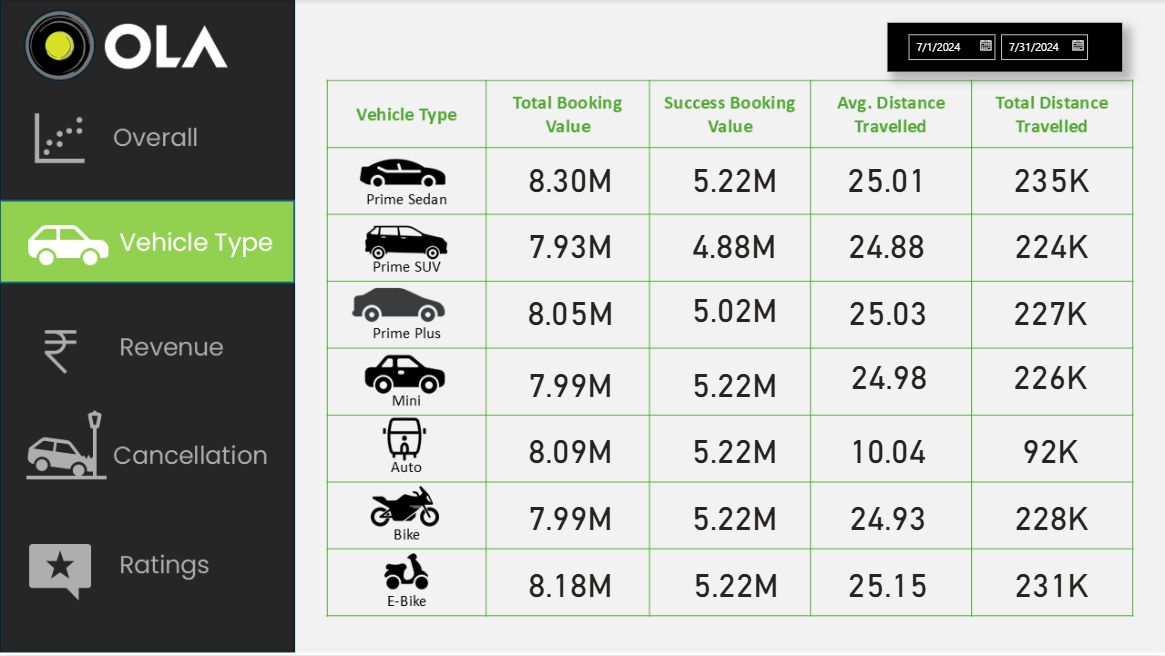

This screenshot's page, from the dashboard's own definition file:
{"tool":"powerbi","page":{"name":"Vehicle Type","canvas":[1280,720],"ordinal":1},"visuals":[{"type":"actionButton","box":[0,223.2,324.5,90.5],"z":0},{"type":"actionButton","box":[1.2,339,324.5,90.5],"z":1000},{"type":"actionButton","box":[0,448.8,324.5,90.5],"z":2000},{"type":"actionButton","box":[0,577.9,324.5,90.5],"z":3000},{"type":"actionButton","box":[0,111,324.5,90.5],"z":4000},{"type":"card","fields":{"Values":["Sum(July.Booking_Value)"]},"box":[536.5,167.4,179.8,56.3],"z":4001},{"type":"card","fields":{"Values":["Sum(July.Booking_Value)"]},"box":[536.5,240.1,179.8,56.3],"z":4002},{"type":"card","fields":{"Values":["Sum(July.Booking_Value)"]},"box":[536.5,314.2,179.8,56.3],"z":4003},{"type":"card","fields":{"Values":["Sum(July.Booking_Value)"]},"box":[536.5,392.5,179.8,56.3],"z":4004},{"type":"card","fields":{"Values":["Sum(July.Booking_Value)"]},"box":[536.5,465.2,179.8,56.3],"z":4005},{"type":"card","fields":{"Values":["Sum(July.Booking_Value)"]},"box":[536.5,539.3,179.8,56.3],"z":4006},{"type":"card","fields":{"Values":["Sum(July.Booking_Value)"]},"box":[536.5,612,179.8,56.3],"z":4007},{"type":"card","fields":{"Values":["Sum(July.Booking_Value)"]},"box":[716.3,167.4,179.8,56.3],"z":4008},{"type":"card","fields":{"Values":["Sum(July.Booking_Value)"]},"box":[716.3,240.1,179.8,56.3],"z":4009},{"type":"card","fields":{"Values":["Sum(July.Booking_Value)"]},"box":[716.3,310.1,179.8,56.3],"z":4010},{"type":"card","fields":{"Values":["Sum(July.Booking_Value)"]},"box":[716.3,539.3,179.8,56.3],"z":4011},{"type":"card","fields":{"Values":["Sum(July.Booking_Value)"]},"box":[716.3,465.2,179.8,56.3],"z":4012},{"type":"card","fields":{"Values":["Sum(July.Booking_Value)"]},"box":[716.3,392.5,179.8,56.3],"z":4013},{"type":"card","fields":{"Values":["Sum(July.Booking_Value)"]},"box":[717.7,612,179.8,56.3],"z":4014},{"type":"card","fields":{"Values":["Avg(July.Ride_Distance)"]},"box":[883.7,167.4,179.8,56.3],"z":4015},{"type":"card","fields":{"Values":["Avg(July.Ride_Distance)"]},"box":[883.7,240.1,179.8,56.3],"z":4016},{"type":"card","fields":{"Values":["Avg(July.Ride_Distance)"]},"box":[885.1,612,179.8,56.3],"z":4017},{"type":"card","fields":{"Values":["Avg(July.Ride_Distance)"]},"box":[885.1,539.3,179.8,56.3],"z":4018},{"type":"card","fields":{"Values":["Avg(July.Ride_Distance)"]},"box":[885.1,465.2,179.8,56.3],"z":4019},{"type":"card","fields":{"Values":["Avg(July.Ride_Distance)"]},"box":[886.5,384.2,179.8,56.3],"z":4020},{"type":"card","fields":{"Values":["Avg(July.Ride_Distance)"]},"box":[885.1,314.2,179.8,56.3],"z":4021},{"type":"card","fields":{"Values":["Sum(July.Ride_Distance)"]},"box":[1064.8,167.4,179.8,56.3],"z":4022},{"type":"card","fields":{"Values":["Sum(July.Ride_Distance)"]},"box":[1064.8,612,179.8,56.3],"z":4023},{"type":"card","fields":{"Values":["Sum(July.Ride_Distance)"]},"box":[1064.8,240.1,179.8,56.3],"z":4024},{"type":"card","fields":{"Values":["Sum(July.Ride_Distance)"]},"box":[1064.8,539.3,179.8,56.3],"z":4025},{"type":"card","fields":{"Values":["Sum(July.Ride_Distance)"]},"box":[1063.5,465.2,179.8,56.3],"z":4026},{"type":"card","fields":{"Values":["Sum(July.Ride_Distance)"]},"box":[1063.5,384.2,179.8,56.3],"z":4027},{"type":"card","fields":{"Values":["Sum(July.Ride_Distance)"]},"box":[1063.5,314.2,179.8,56.3],"z":4028},{"type":"slicer","title":"Date","fields":{"Values":["July.Date"]},"box":[974.3,26.1,258,53.5],"z":4029}]}

Visuals, with their boxes on the page's 1280x720 design canvas (x1, y1, x2, y2). These are canvas units, not pixel positions in the 1165x656 screenshot, which may show the page scaled, cropped or inside an application window:
actionButton: (0,223,324,314)
actionButton: (1,339,326,430)
actionButton: (0,449,324,539)
actionButton: (0,578,324,668)
actionButton: (0,111,324,202)
card - Sum(July.Booking_Value): (536,167,716,224)
card - Sum(July.Booking_Value): (536,240,716,296)
card - Sum(July.Booking_Value): (536,314,716,370)
card - Sum(July.Booking_Value): (536,392,716,449)
card - Sum(July.Booking_Value): (536,465,716,522)
card - Sum(July.Booking_Value): (536,539,716,596)
card - Sum(July.Booking_Value): (536,612,716,668)
card - Sum(July.Booking_Value): (716,167,896,224)
card - Sum(July.Booking_Value): (716,240,896,296)
card - Sum(July.Booking_Value): (716,310,896,366)
card - Sum(July.Booking_Value): (716,539,896,596)
card - Sum(July.Booking_Value): (716,465,896,522)
card - Sum(July.Booking_Value): (716,392,896,449)
card - Sum(July.Booking_Value): (718,612,898,668)
card - Avg(July.Ride_Distance): (884,167,1064,224)
card - Avg(July.Ride_Distance): (884,240,1064,296)
card - Avg(July.Ride_Distance): (885,612,1065,668)
card - Avg(July.Ride_Distance): (885,539,1065,596)
card - Avg(July.Ride_Distance): (885,465,1065,522)
card - Avg(July.Ride_Distance): (886,384,1066,440)
card - Avg(July.Ride_Distance): (885,314,1065,370)
card - Sum(July.Ride_Distance): (1065,167,1245,224)
card - Sum(July.Ride_Distance): (1065,612,1245,668)
card - Sum(July.Ride_Distance): (1065,240,1245,296)
card - Sum(July.Ride_Distance): (1065,539,1245,596)
card - Sum(July.Ride_Distance): (1064,465,1243,522)
card - Sum(July.Ride_Distance): (1064,384,1243,440)
card - Sum(July.Ride_Distance): (1064,314,1243,370)
"Date" slicer: (974,26,1232,80)
